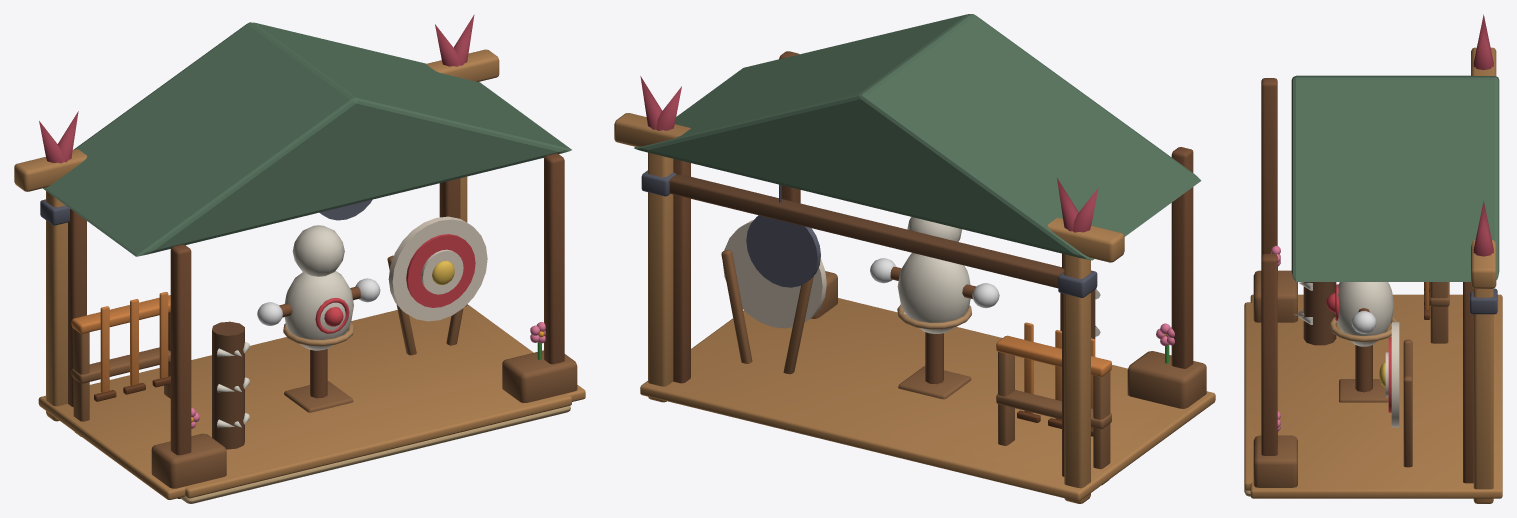
The model's file is training3.glb.
3 views of the same model, side by side, from view 1: azimuth 30°, elevation 25°; view 2: azimuth 150°, elevation 25°; view 3: azimuth 270°, elevation 25° (orthographic). The views are drawn at different scales.
Visible parts, largest first — view 1: base, pine-deck, flower, imp-horns, iron-gong; view 2: base, pine-deck, iron-gong, flower, imp-horns; view 3: base, pine-deck, flower, imp-horns, iron-gong.
Boxes of the visible parts, x1,y1,x2,y2 form: base: (43,22,571,503); pine-deck: (14,49,585,499); flower: (151,322,577,488); imp-horns: (39,14,474,163); iron-gong: (40,199,372,225); base: (634,14,1201,484); pine-deck: (614,113,1215,503); iron-gong: (641,170,1097,297); flower: (811,271,1206,408); imp-horns: (640,76,1098,232); base: (1244,75,1499,496); pine-deck: (1250,47,1502,503); flower: (1253,245,1297,487); imp-horns: (1473,14,1493,256); iron-gong: (1470,288,1497,314).
Bounding box in the file's own units: 4.2 × 2.89 × 2.05.
